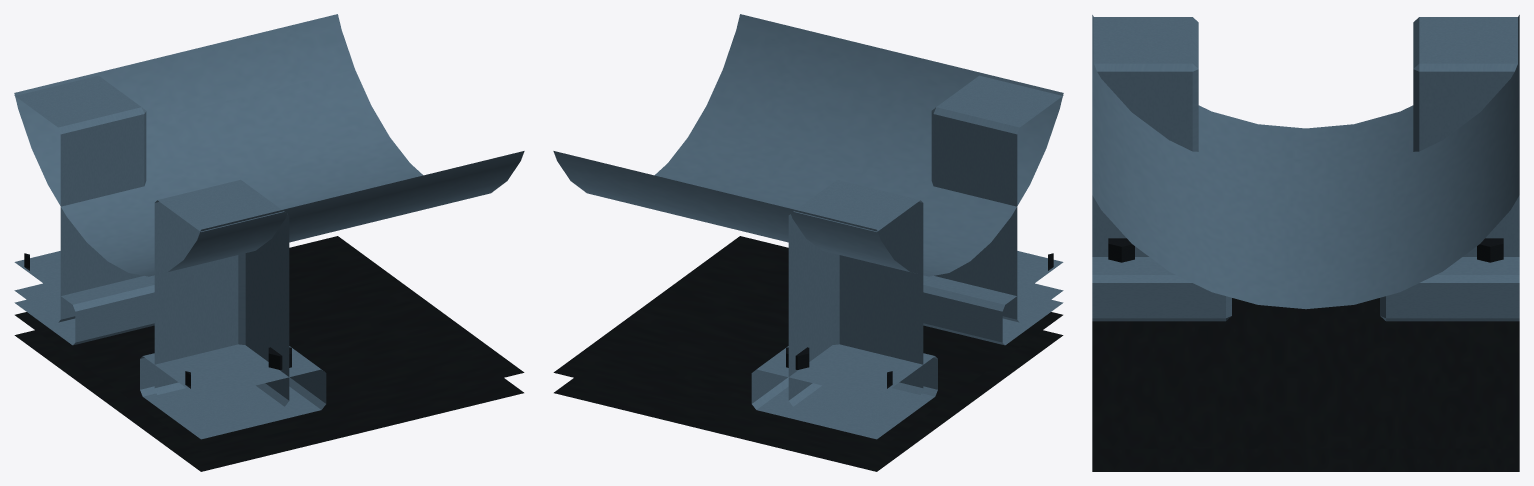
The model's file is cell_8.obj.
3 views of the same model, side by side, from view 1: azimuth 30°, elevation 25°; view 2: azimuth 150°, elevation 25°; view 3: azimuth 270°, elevation 25° (orthographic). The views are drawn at different scales.
Parts seen in each view (by area): view 1: cell_8; view 2: cell_8; view 3: cell_8.
Part boxes in pixels (left/top/right/bottom): cell_8: left=14, top=14, right=524, bottom=471; cell_8: left=553, top=14, right=1063, bottom=471; cell_8: left=1092, top=15, right=1519, bottom=471.
Size of the model in its own units: 1 by 0.7154 by 1.
